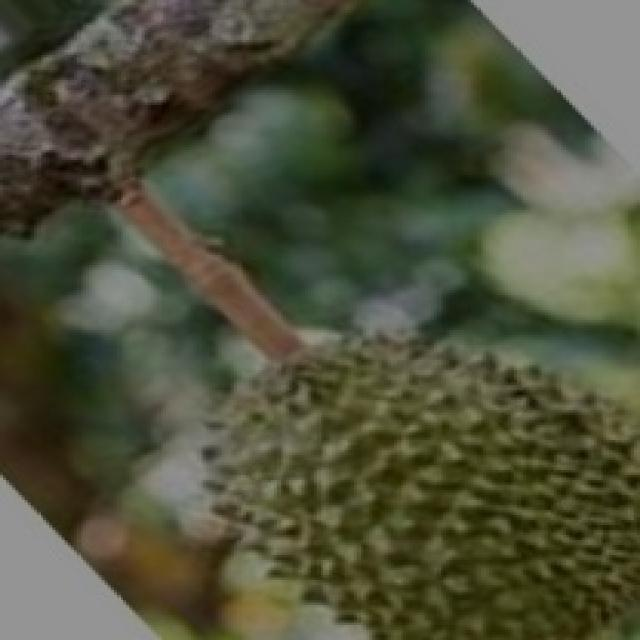fruit: (150, 257, 492, 640)
